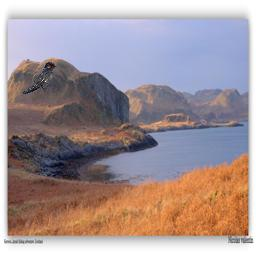Swallow: (22, 62, 58, 94)
